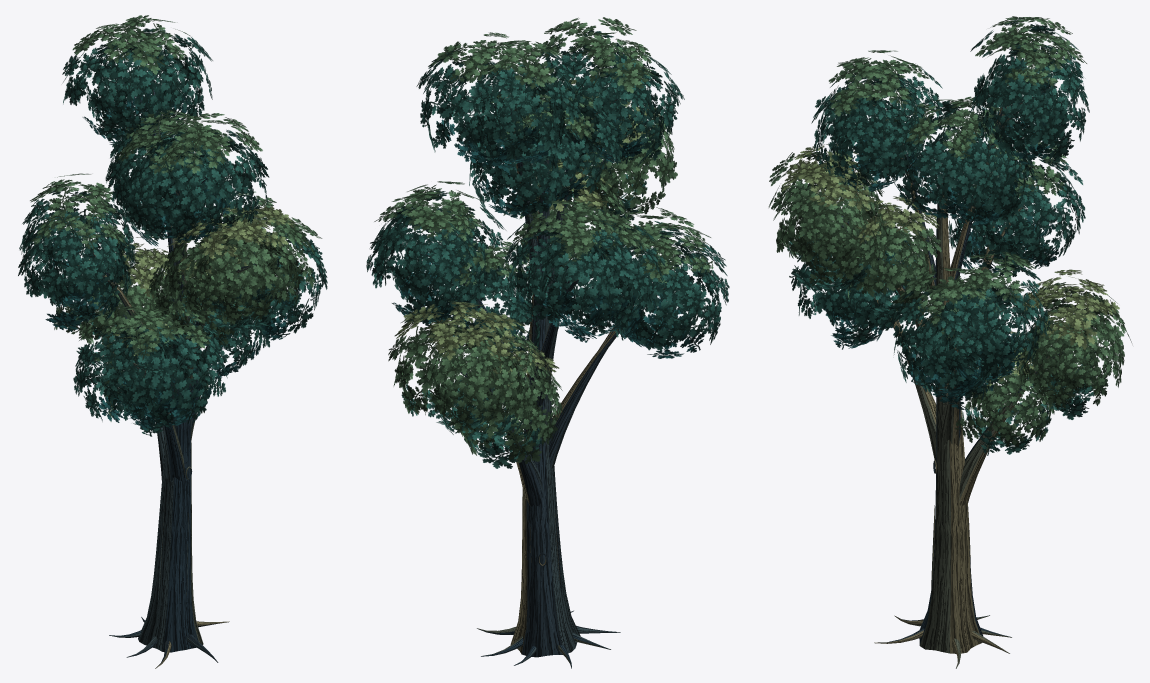
File: branching_oak.glb
3 renders of one model, left to right at view 1: azimuth 30°, elevation 25°; view 2: azimuth 150°, elevation 25°; view 3: azimuth 270°, elevation 25°, orthographic. The views are drawn at different scales.
Visible parts, largest first — view 1: branching_oak; view 2: branching_oak; view 3: branching_oak.
Boxes of the visible parts, box(x1,y1,x2,y2) form: branching_oak: box(18, 15, 327, 668); branching_oak: box(366, 17, 729, 668); branching_oak: box(768, 16, 1131, 668).
Size of the model in its own units: 9.6 by 19.16 by 10.52.
2 materials, 2 textured.
